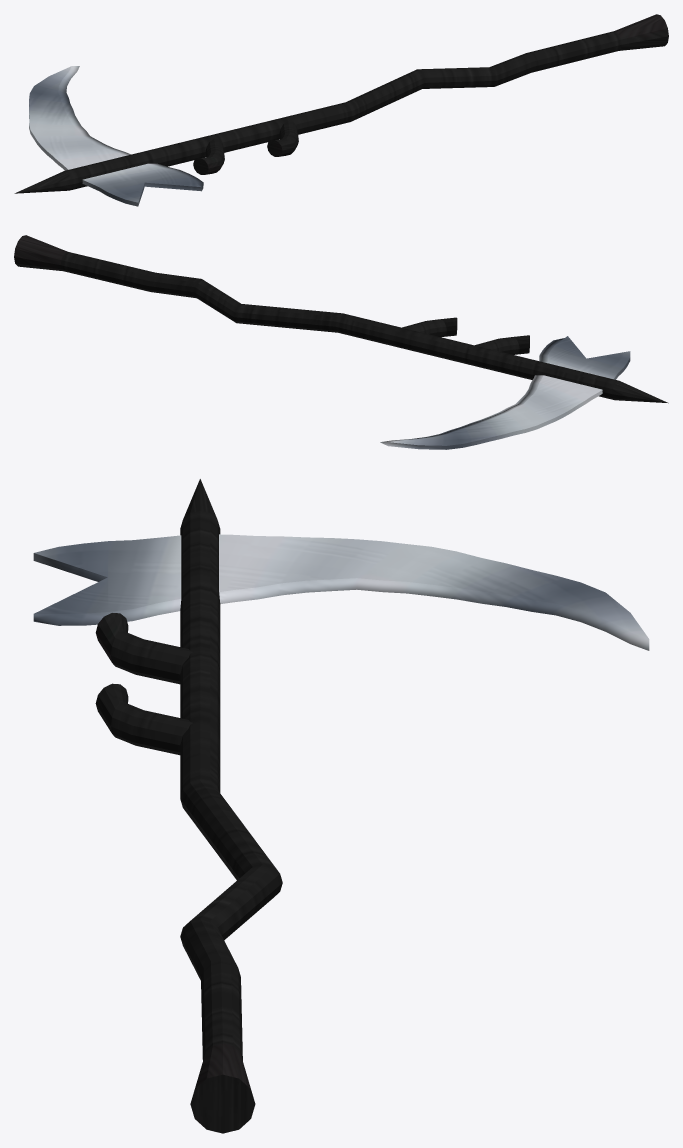
File: ScytheMesh.fbx
The picture shows the model from 3 angles, top to bottom: view 1: azimuth 30°, elevation 25°; view 2: azimuth 150°, elevation 25°; view 3: azimuth 270°, elevation 25°; orthographic projection. The views are drawn at different scales.
Parts seen in each view (by area): view 1: Grip, Blade, Stick2, Stick1; view 2: Grip, Blade, Stick1, Stick2; view 3: Blade, Grip, Stick1, Stick2.
Boxes of the visible parts, x1,y1,x2,y2 form: Grip: [14, 14, 668, 193]; Blade: [29, 66, 203, 206]; Stick2: [193, 138, 224, 174]; Stick1: [267, 120, 298, 156]; Grip: [14, 235, 668, 403]; Blade: [380, 336, 630, 449]; Stick1: [402, 317, 457, 337]; Stick2: [475, 335, 529, 354]; Blade: [33, 534, 649, 650]; Grip: [180, 479, 282, 1133]; Stick1: [95, 683, 192, 755]; Stick2: [95, 613, 192, 684].
Size of the model in its own units: 7.33 by 0.3223 by 3.05.
